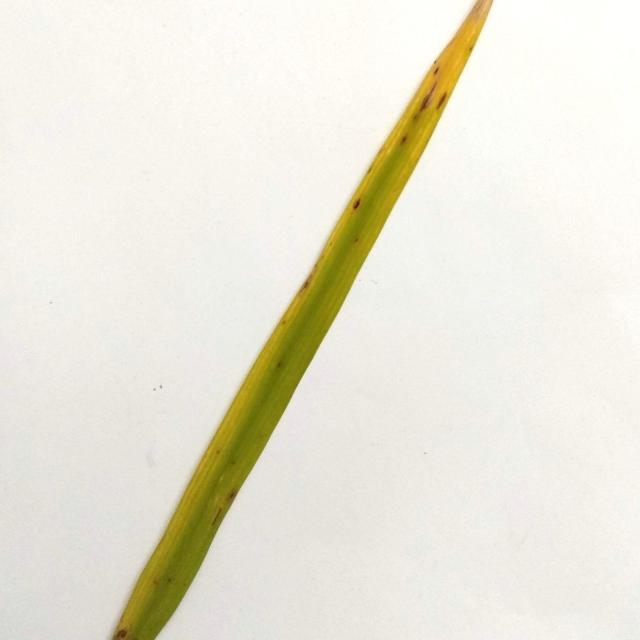Brown spot: (114, 0, 512, 640)
